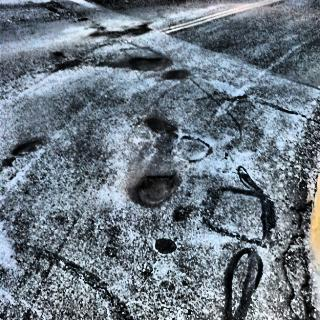crack: (282, 196, 313, 316)
pothole: (133, 164, 181, 222), (9, 136, 48, 166), (129, 49, 176, 73), (144, 106, 172, 140), (162, 70, 196, 86)
